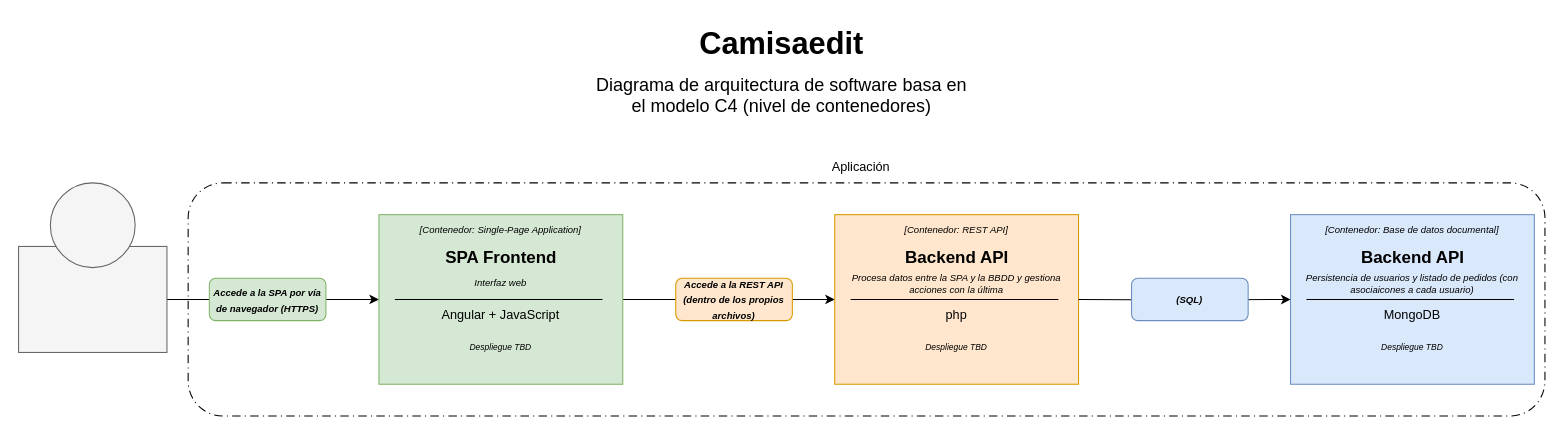
Some shapes in this 1563 by 435 pixel diagram are drawn without their labels. Each missing label, with the centre of its shape:
[Persona]: (x=92, y=225)
Usuario Conectándose por un navegador web: (x=92, y=298)
